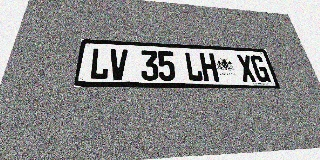3: (141, 50, 159, 81)
5: (157, 51, 176, 81)
G: (249, 55, 271, 82)
H: (199, 53, 219, 82)
L: (89, 48, 110, 80), (184, 52, 204, 81)
V: (108, 49, 128, 80)
X: (236, 54, 257, 82)
